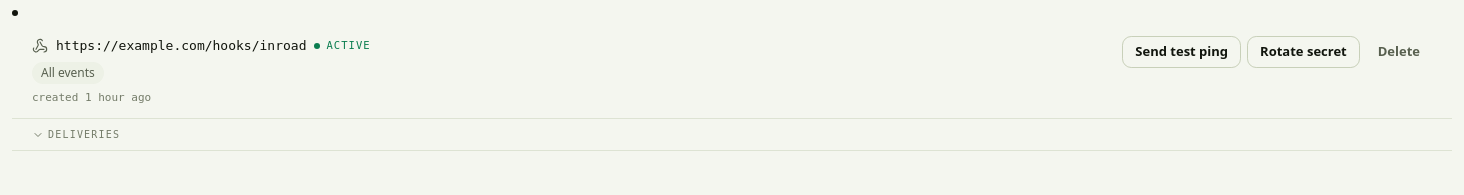
a failed ping is reported with mapped copy
This screenshot has width=1464, height=195.
Click the button "Send test ping".
click(1182, 52)  # box [1122,36,1241,68]
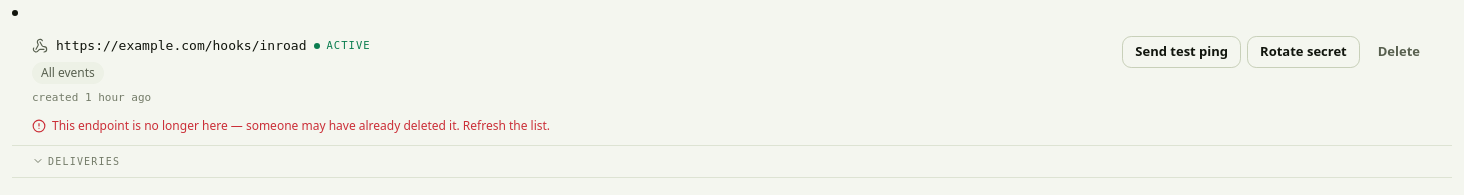
Now the message shows "no longer here", box [52,117,550,134]
